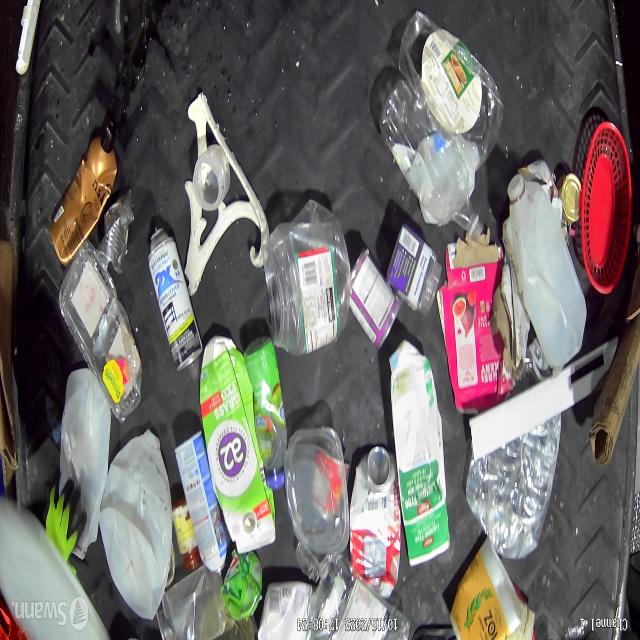can: (148, 225, 203, 372), (174, 429, 227, 576), (351, 446, 402, 592), (350, 247, 400, 350), (560, 171, 584, 228)
milk_jug: (507, 176, 590, 372), (104, 431, 175, 619), (64, 372, 106, 562)
non_white_jug: (199, 344, 264, 549)
plastic_bottle: (402, 23, 511, 170), (385, 91, 482, 247), (261, 197, 352, 359), (468, 432, 556, 558)
